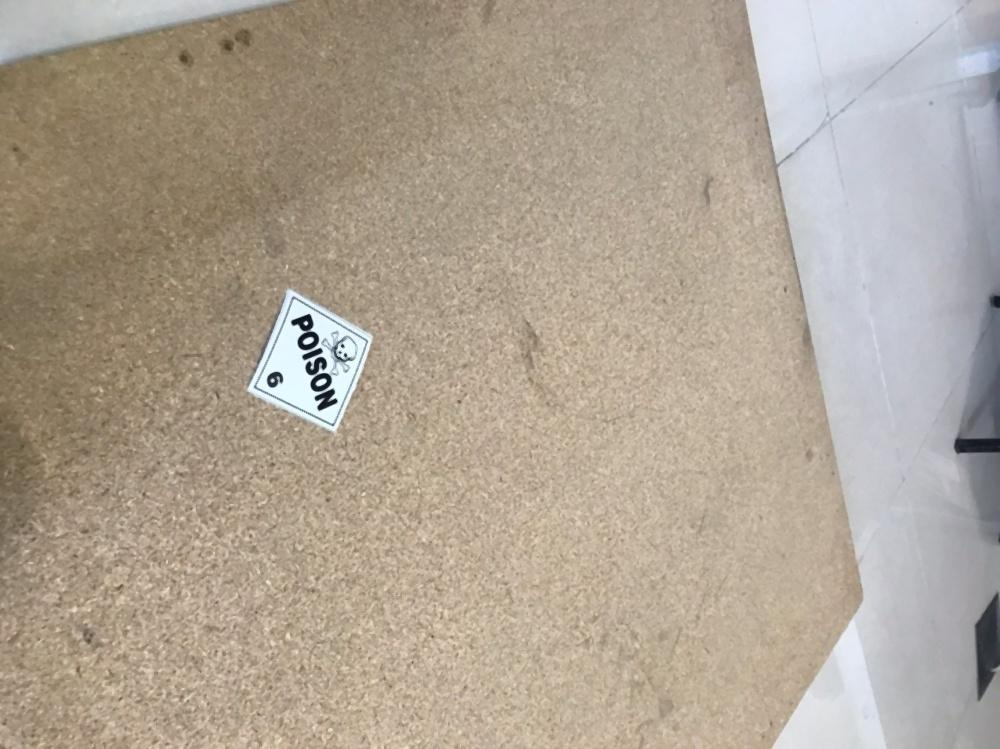poison: (244, 285, 375, 430)
